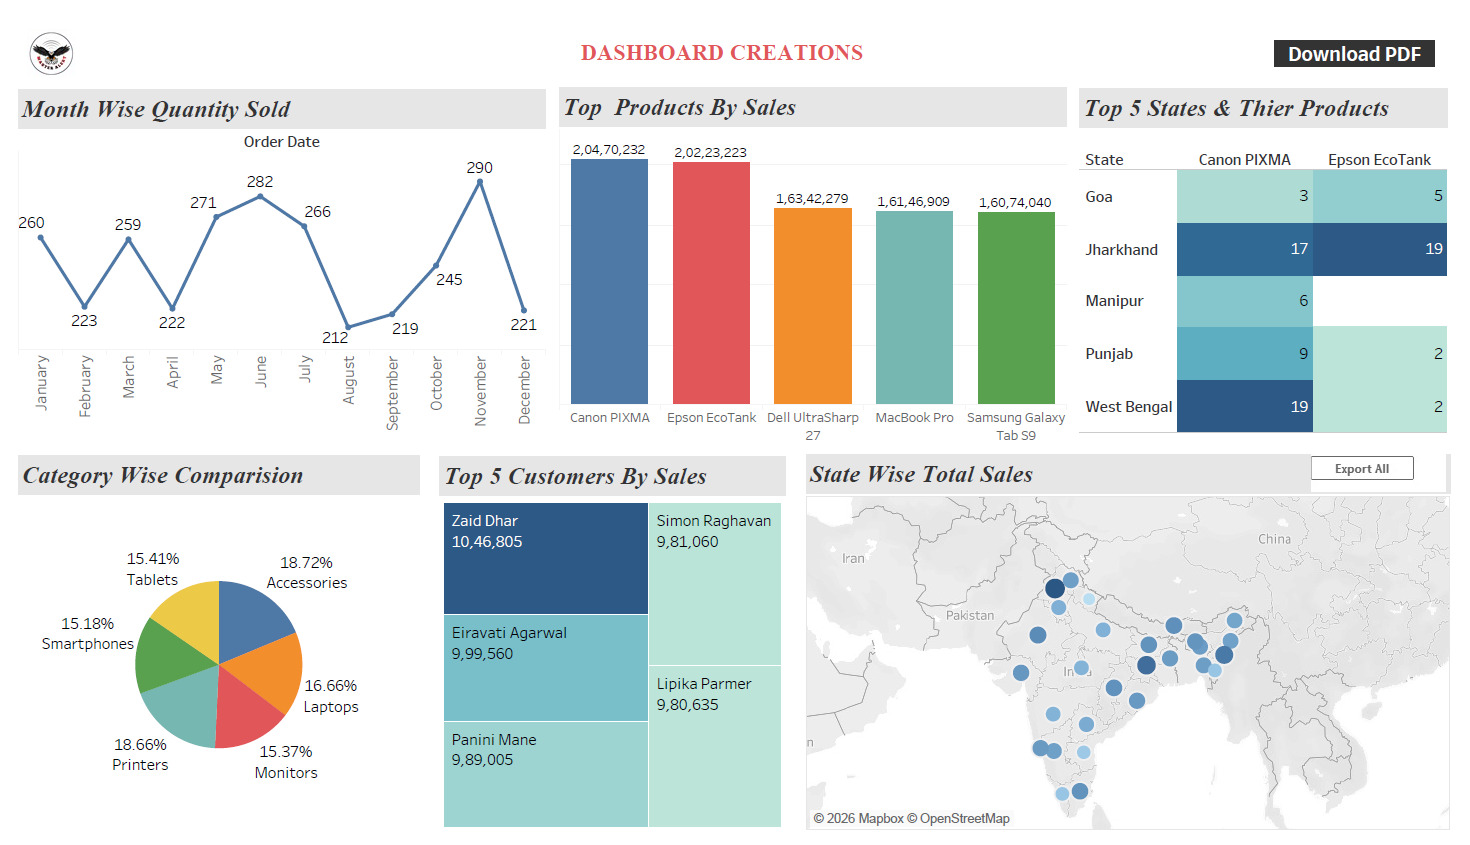

This screenshot's page, from the dashboard's own definition file:
{"tool":"tableau","page":{"name":"Dashboard 1","canvas":[1000,1000],"units":"permille","ordinal":0},"visuals":[{"type":"text","box":[5.3,9.4,989.3,981.2]},{"type":"image","param":"Image/Master Alert.jpeg","box":[16.7,28.2,32,57.5]},{"type":"text","box":[337.3,30.5,306.7,50.5]},{"type":"dashboard-object","box":[868,41.1,108.7,29.3]},{"type":"worksheet","title":"Sheet 2","mark":"Automatic","rows":["Calculation_0959660184625152"],"cols":["Product"],"box":[379.3,96.2,346.7,424.9]},{"type":"worksheet","title":"Sheet 6","mark":"Square","rows":["State"],"cols":["Product"],"box":[734.7,97.4,251.3,410.8]},{"type":"worksheet","title":"Sheet 1","mark":"Line","rows":["Quantity"],"cols":["Order Date"],"box":[10,98.6,360,426.1]},{"type":"worksheet","title":"Sheet 5","mark":"Automatic","box":[548,534,440,447.2]},{"type":"dashboard-object","param":"[com.theinformationlab.extensions.exportall].[1.0.0].[https://exportallextension","box":[892.7,534,92,43.4]},{"type":"worksheet","title":"Sheet 3","mark":"Pie","box":[10,535.2,274,447.2]},{"type":"worksheet","title":"Sheet 4","mark":"Automatic","box":[298,536.4,236,446]}]}

Visuals, with their boxes on the dashboard's canvas, which has no fixed pixel size, in thousandths of its width and height (x1, y1, x2, y2). These are canvas units, not pixel positions in the 1470x845 screenshot, which may show the page scaled, cropped or inside an application window:
text: crop(5, 9, 995, 991)
image: crop(17, 28, 49, 86)
text: crop(337, 30, 644, 81)
dashboard-object: crop(868, 41, 977, 70)
"Sheet 2" worksheet: crop(379, 96, 726, 521)
"Sheet 6" worksheet (Square marks): crop(735, 97, 986, 508)
"Sheet 1" worksheet (Line marks): crop(10, 99, 370, 525)
"Sheet 5" worksheet: crop(548, 534, 988, 981)
dashboard-object: crop(893, 534, 985, 577)
"Sheet 3" worksheet (Pie marks): crop(10, 535, 284, 982)
"Sheet 4" worksheet: crop(298, 536, 534, 982)
